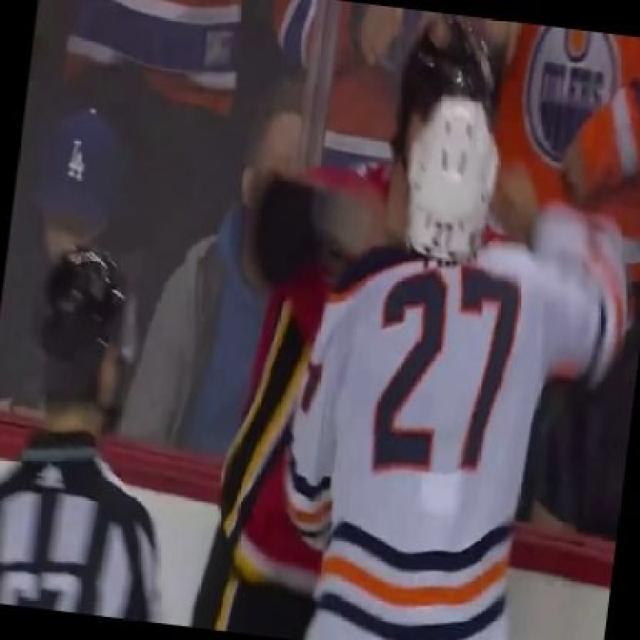fight: (188, 31, 628, 634)
